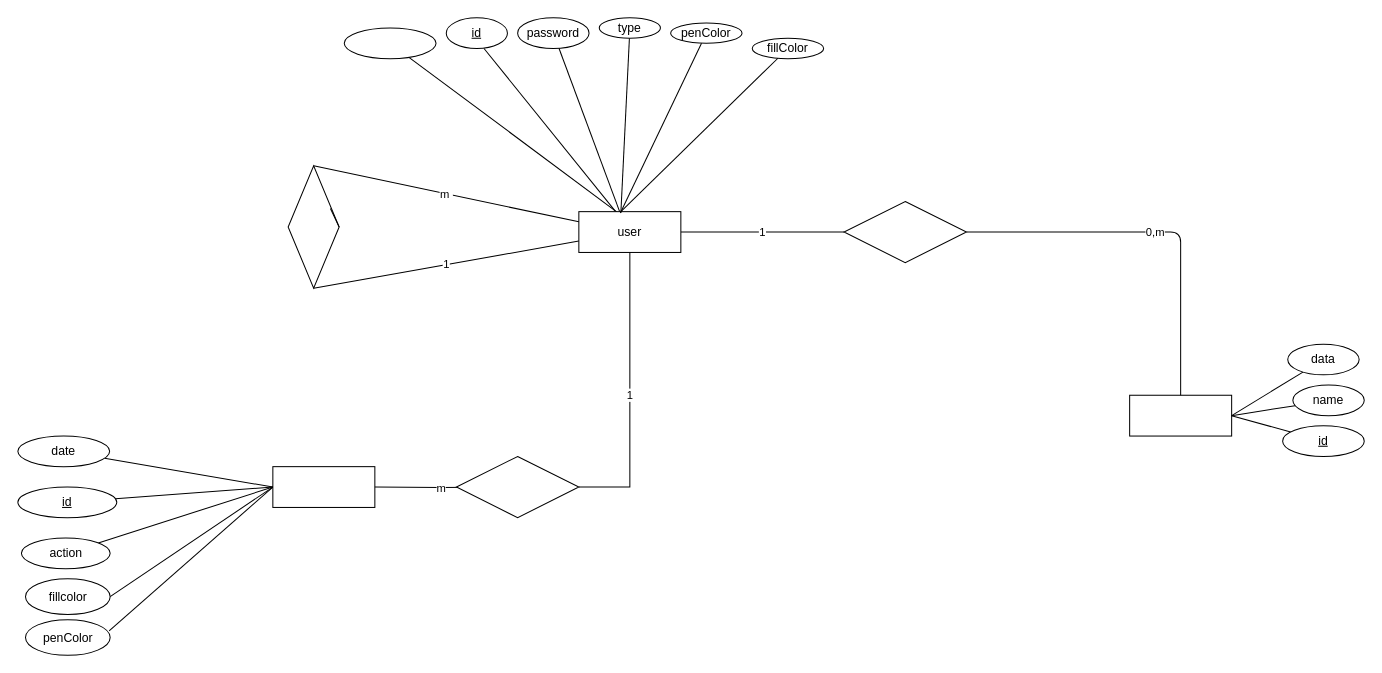
Image size: 1382x673. Some labels were removed from this diagram. Here are the shapes that lost their labels. From the top down, the centre of each, then its label:
At point 389,43: "userName".
At point 313,226: "gestiona".
At point 904,231: "crea".
At point 1180,415: "Paint".
At point 323,486: "binnacle".
At point 517,486: "tiene".
